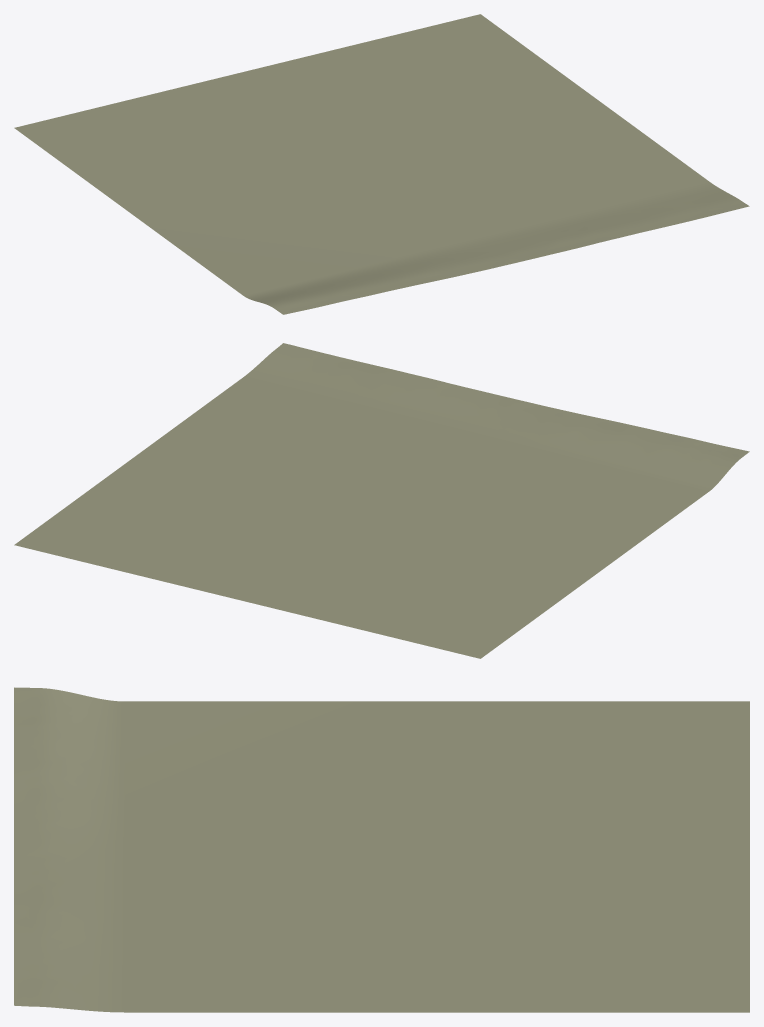
File: SM_VB_CityTerrain_1_5.fbx
3 renders of one model, top to bottom at view 1: azimuth 30°, elevation 25°; view 2: azimuth 150°, elevation 25°; view 3: azimuth 270°, elevation 25°, orthographic. The views are drawn at different scales.
Visible parts, largest first — view 1: SM_VB_CityTerrain_1_5; view 2: SM_VB_CityTerrain_1_5; view 3: SM_VB_CityTerrain_1_5.
Boxes of the visible parts, x1,y1,x2,y2 form: SM_VB_CityTerrain_1_5: [14, 14, 749, 314]; SM_VB_CityTerrain_1_5: [14, 343, 749, 658]; SM_VB_CityTerrain_1_5: [14, 687, 749, 1012].
Size of the model in its own units: 600 by 12.56 by 600.
